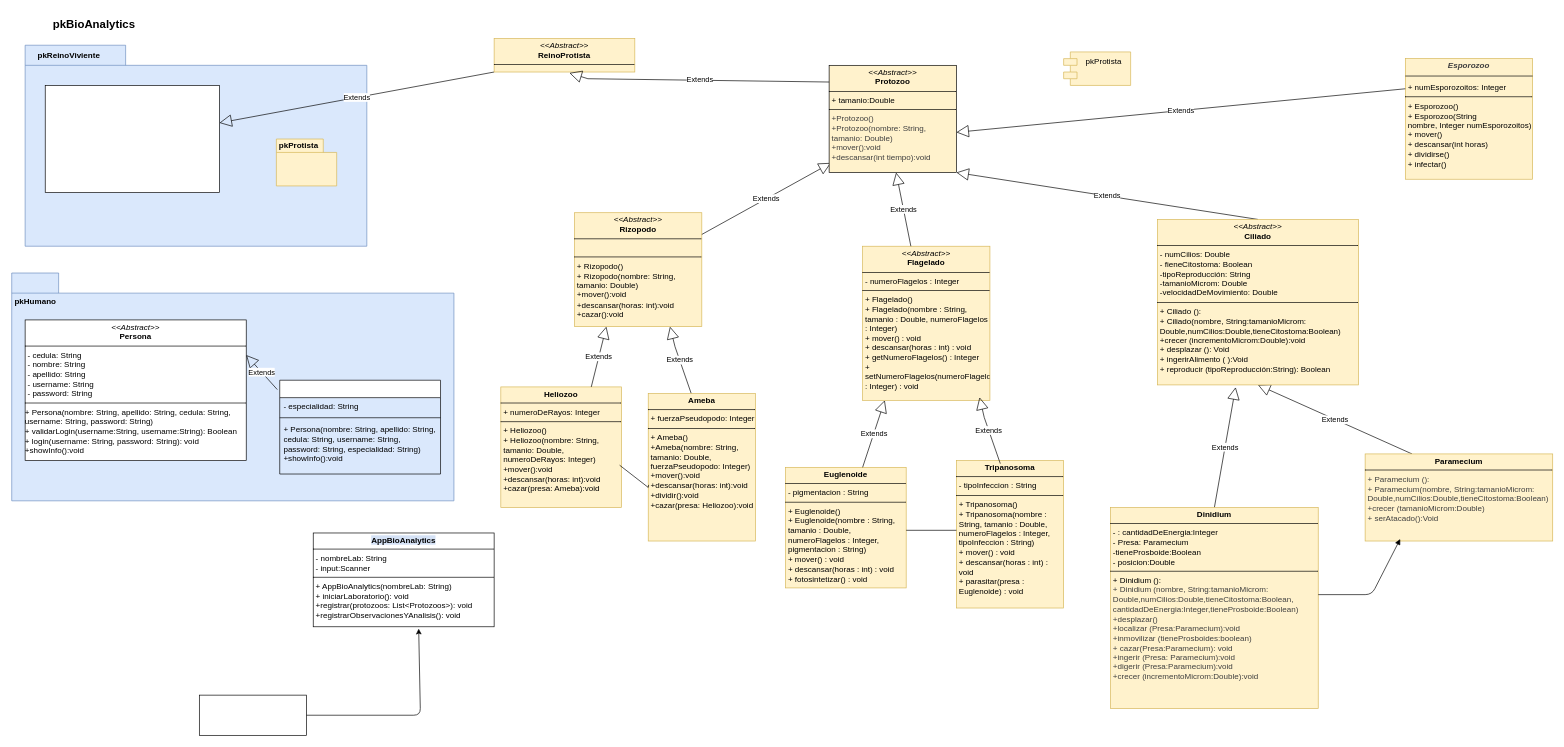
Image size: 1564x747. Some labels were removed from this diagram. Each missing label, with the box of its shape:
<<Abstract>> SerVIvo - estaVivo: Boolean - nombre: String + SerVivo(): (45, 85, 219, 193)
App + main(String[]):void: (199, 694, 307, 735)
Microbiologo: (279, 380, 441, 474)
